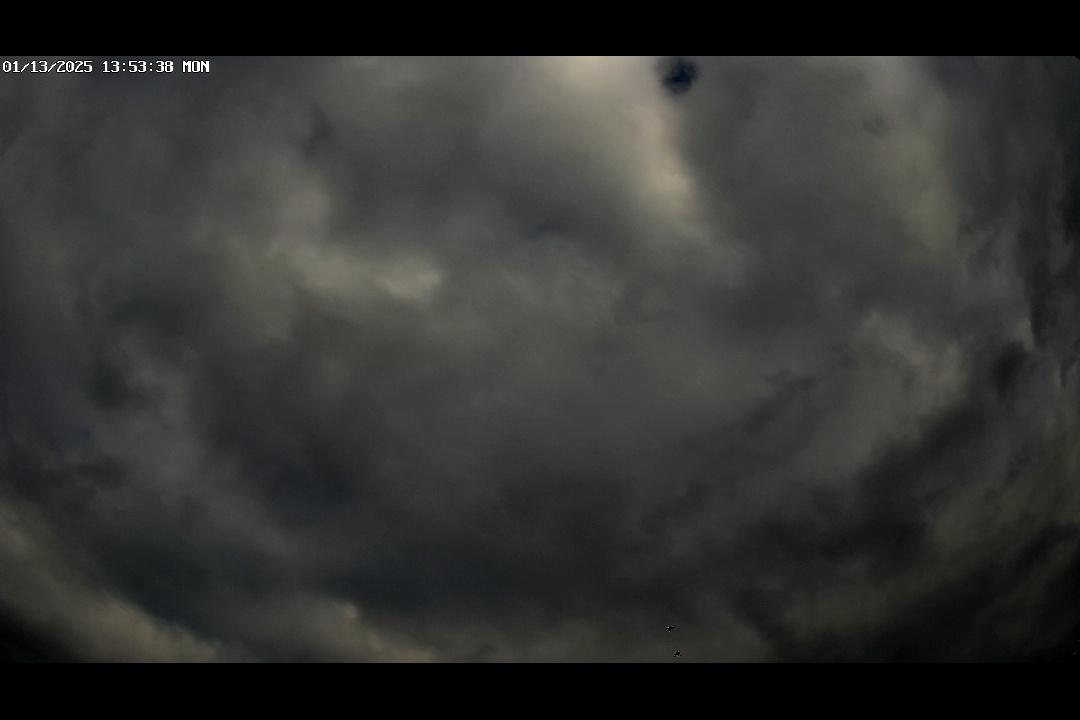WildLife: (660, 616, 681, 638), (666, 646, 690, 658)
